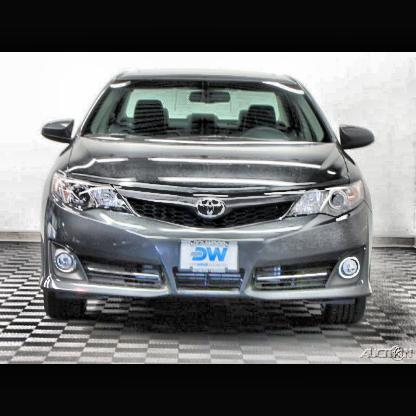Toyota Camry Sedan 2012: (38, 69, 377, 334)
